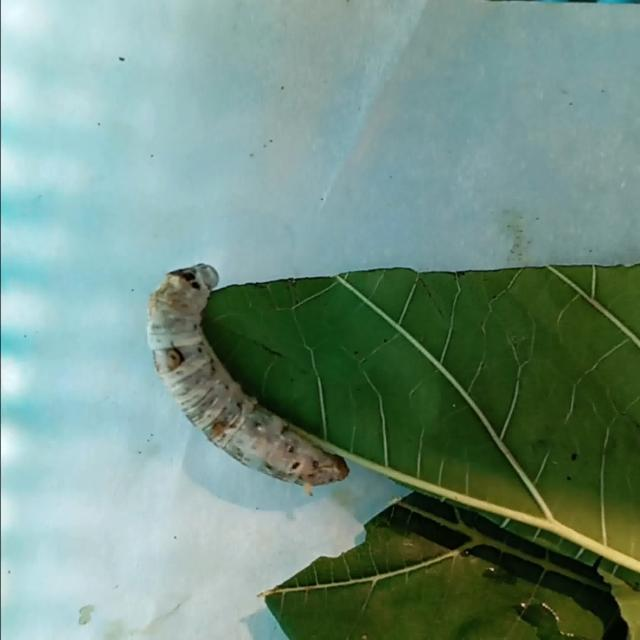Grasserie: (122, 218, 381, 510)
